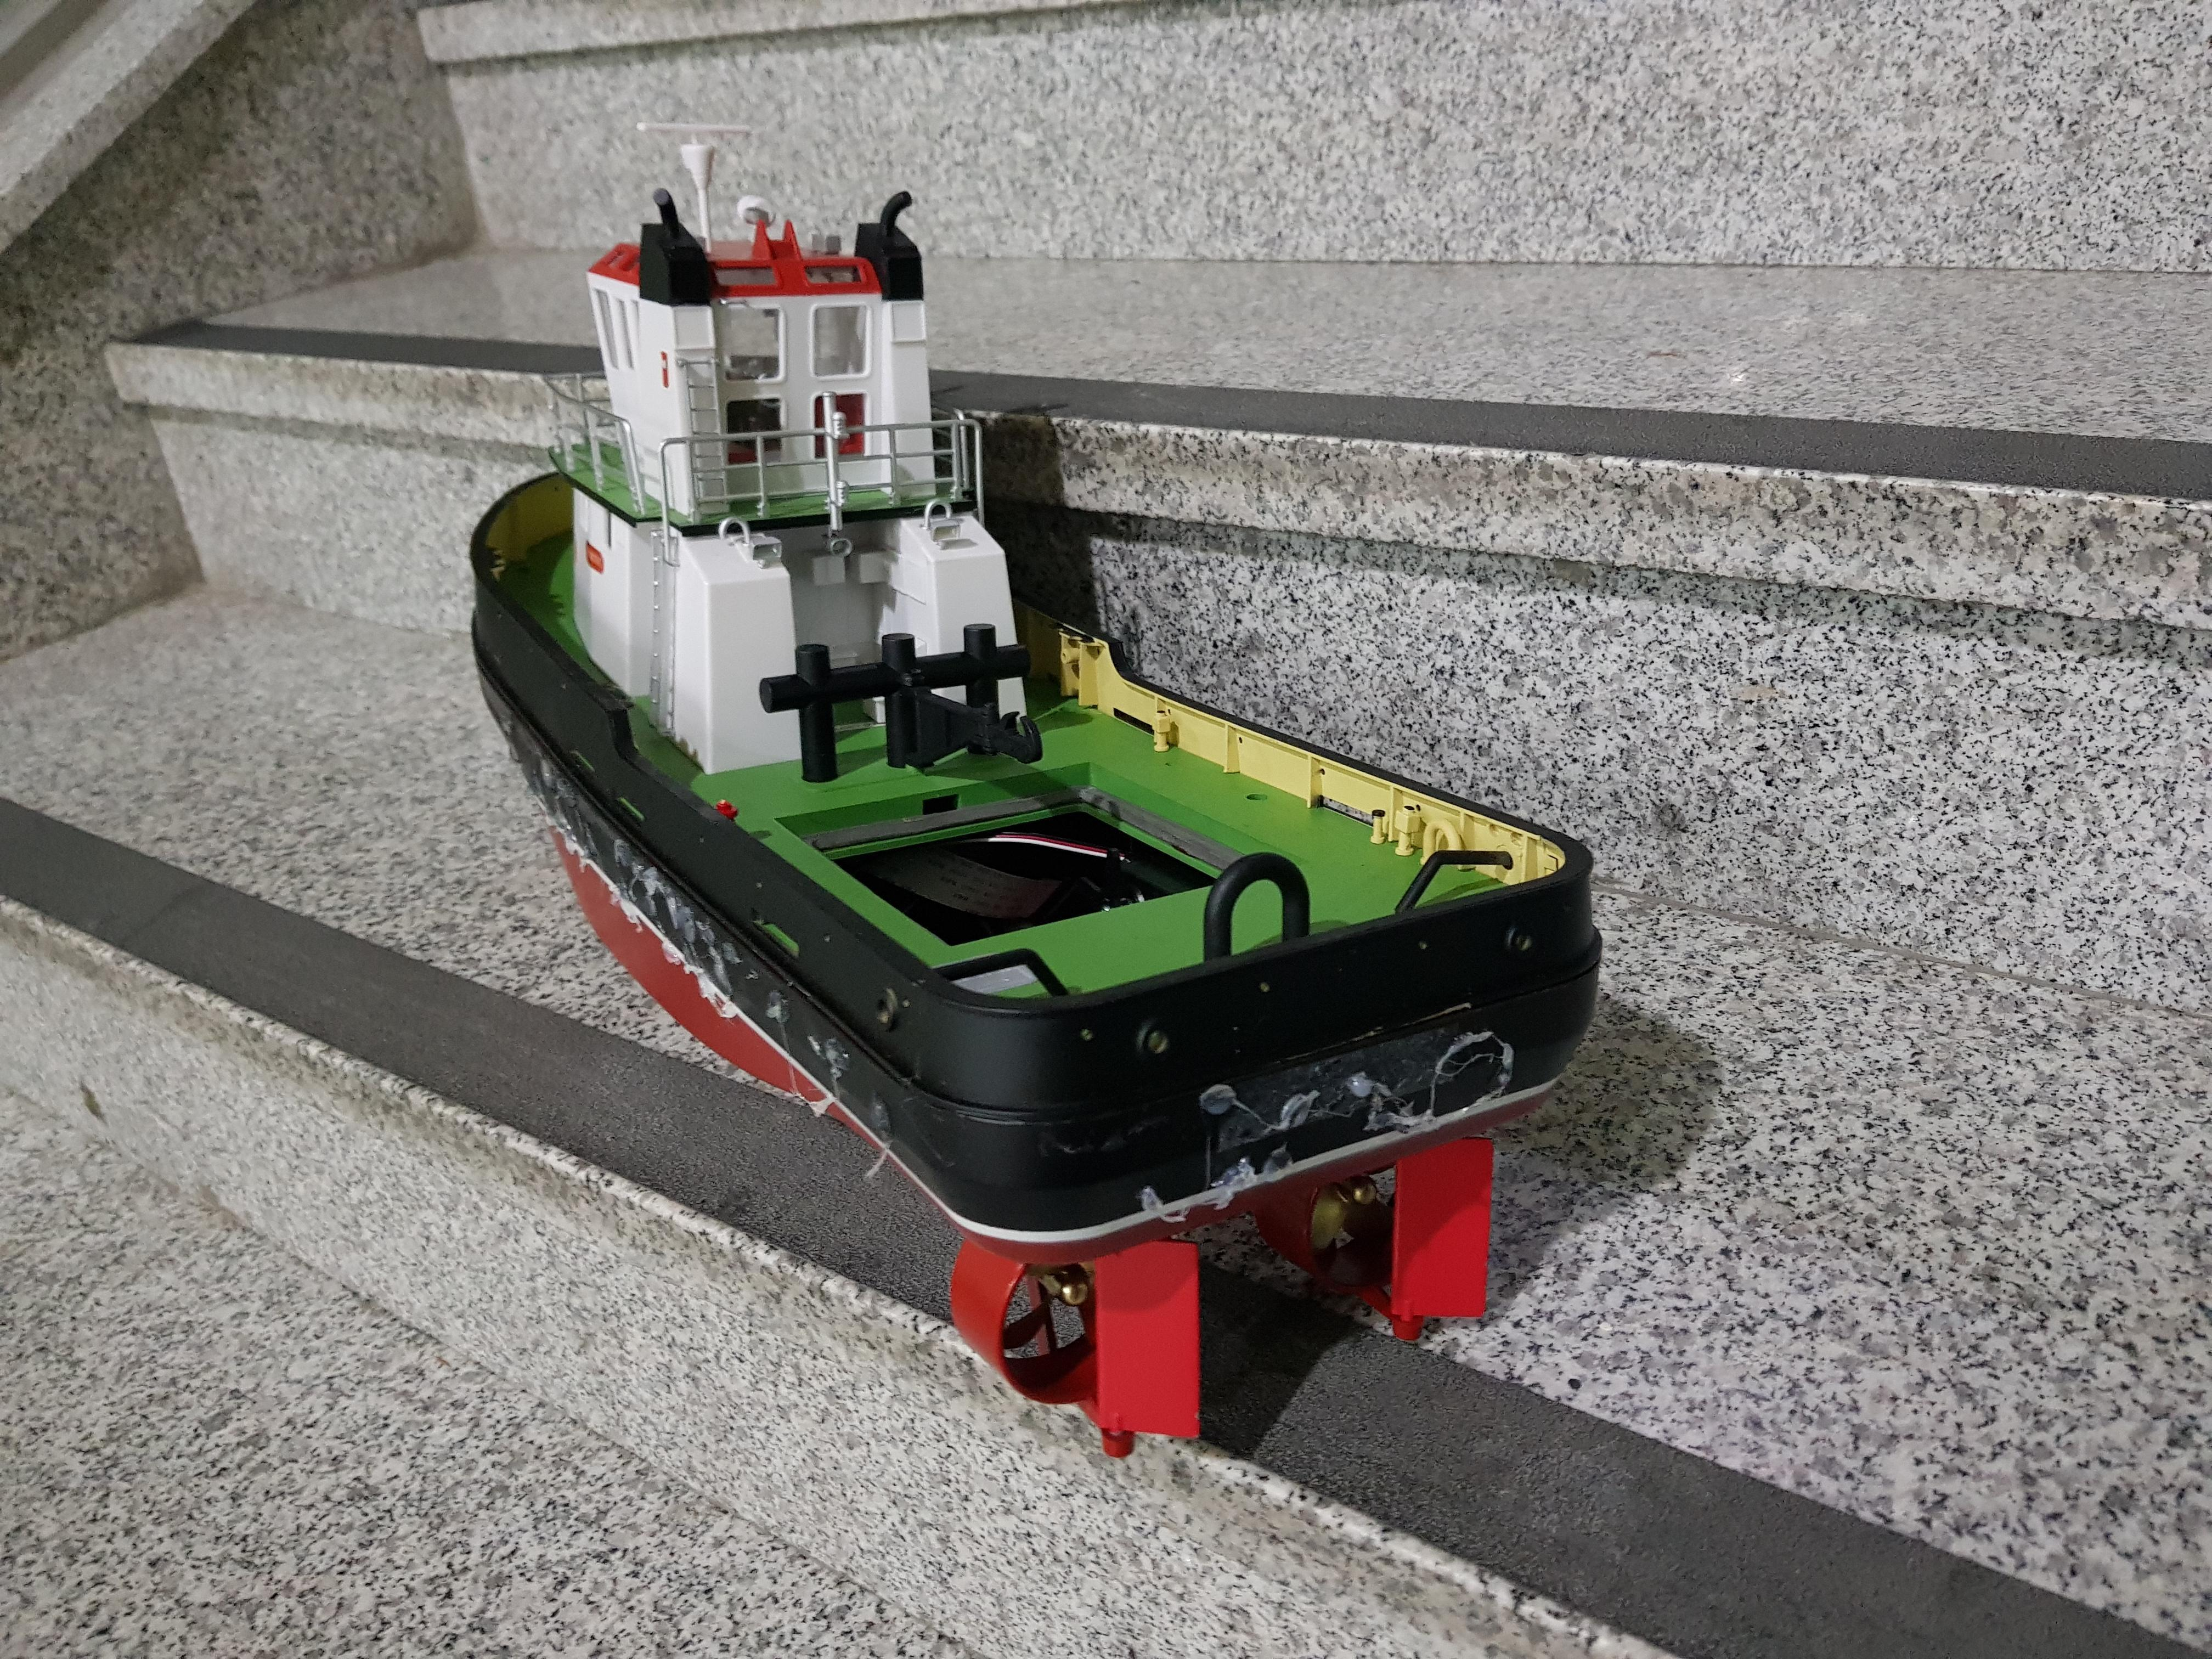Boat: (467, 143, 1611, 1439)
